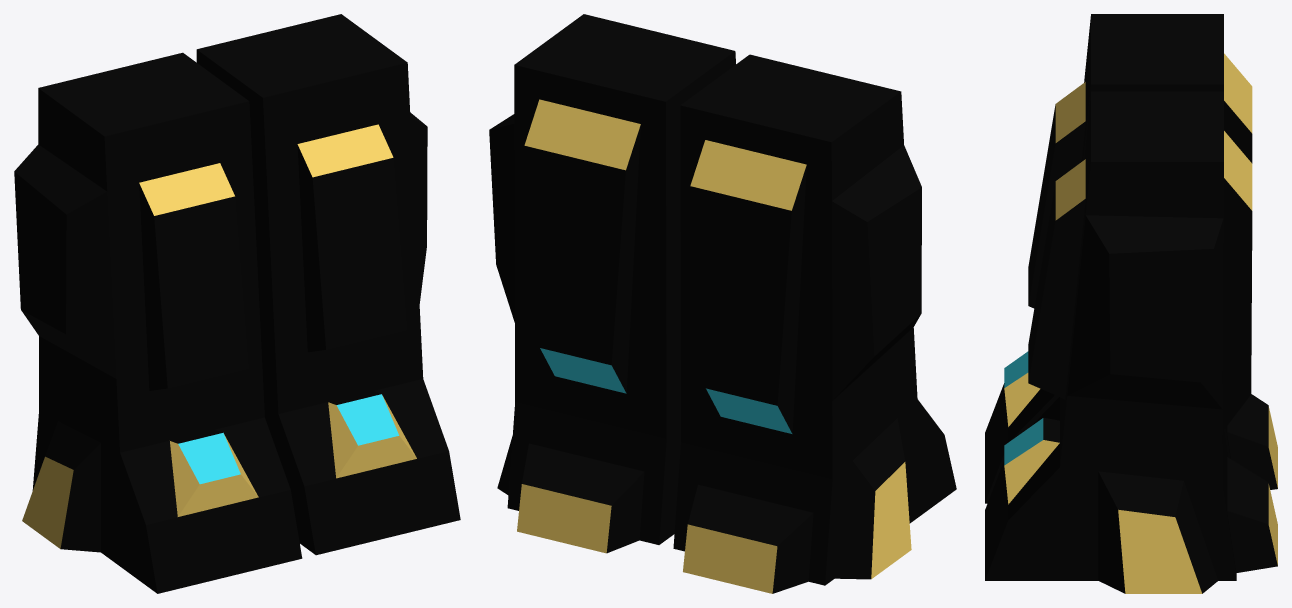
File: r_78_2_leggings.obj
The picture shows the model from 3 angles, left to right: view 1: azimuth 30°, elevation 25°; view 2: azimuth 150°, elevation 25°; view 3: azimuth 270°, elevation 25°; orthographic projection. The views are drawn at different scales.
Visible parts, largest first — view 1: Box009, Box008; view 2: Box009, Box008; view 3: Box008, Box009.
Part boxes in pixels (x1,y1,x2,y2): Box009: [14, 52, 302, 593]; Box008: [196, 14, 460, 555]; Box009: [673, 54, 956, 593]; Box008: [489, 14, 735, 553]; Box008: [985, 91, 1277, 593]; Box009: [985, 14, 1277, 503].
Bounding box in the file's own units: 52.97 × 58.69 × 37.2.
Materials: 1 (1 with a texture image).
